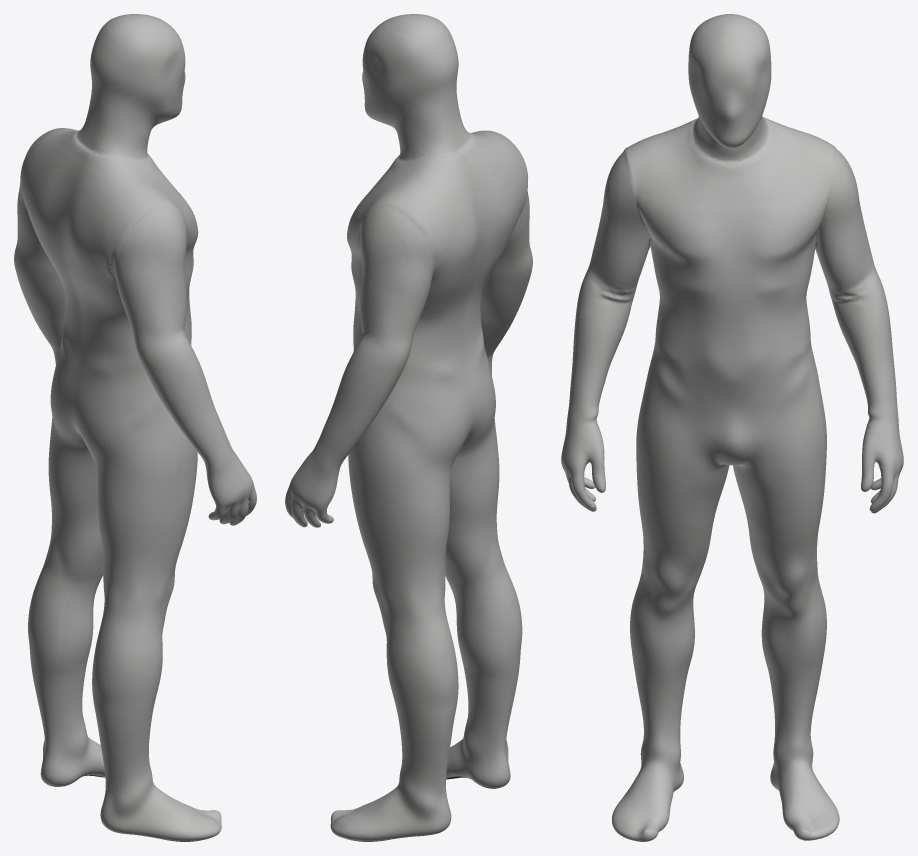
The model's file is male-normal.glb.
3 views of the same model, side by side, from view 1: azimuth 30°, elevation 25°; view 2: azimuth 150°, elevation 25°; view 3: azimuth 270°, elevation 25° (orthographic). The views are drawn at different scales.
Visible parts, largest first — view 1: tripo_node_9767dc78-19ae-4a55-8923-d9deca585da7; view 2: tripo_node_9767dc78-19ae-4a55-8923-d9deca585da7; view 3: tripo_node_9767dc78-19ae-4a55-8923-d9deca585da7.
Part boxes in pixels (bbox=[...]): tripo_node_9767dc78-19ae-4a55-8923-d9deca585da7: bbox=[14, 14, 256, 841]; tripo_node_9767dc78-19ae-4a55-8923-d9deca585da7: bbox=[285, 14, 532, 841]; tripo_node_9767dc78-19ae-4a55-8923-d9deca585da7: bbox=[561, 14, 903, 841].
Bounding box in the file's own units: 0.1729 × 1 × 0.3862.
Materials: 1 (1 with a texture image).
